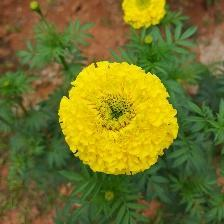marigold: (59, 61, 183, 177), (121, 1, 166, 32)
